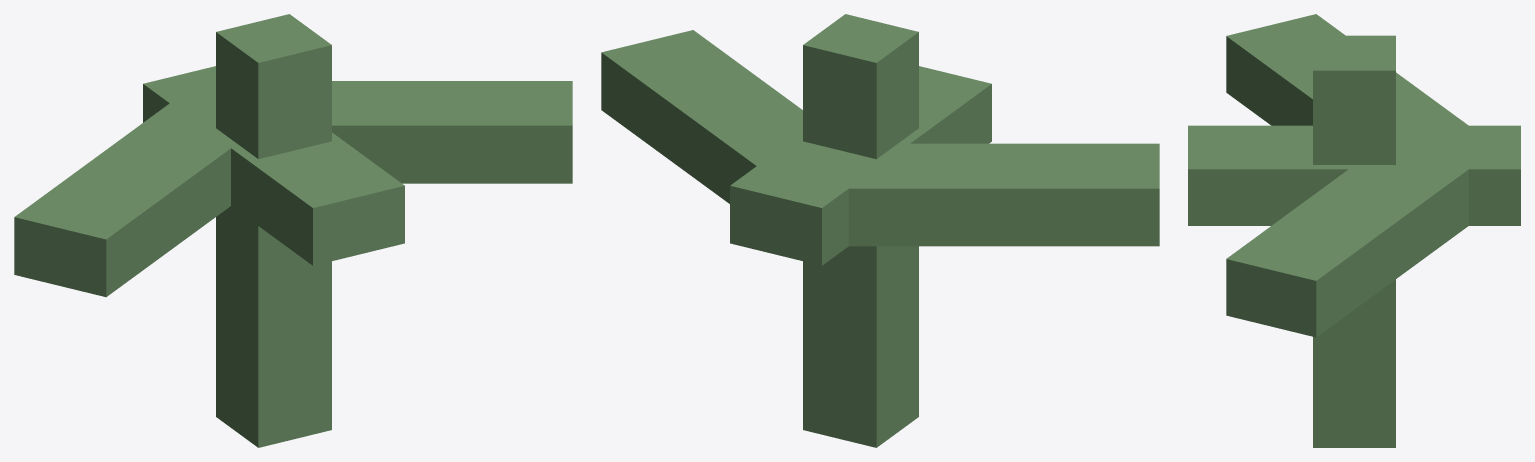
Rendered from hs_sprout.glb.
The picture shows the model from 3 angles, left to right: view 1: azimuth 30°, elevation 25°; view 2: azimuth 150°, elevation 25°; view 3: azimuth 270°, elevation 25°; orthographic projection. The views are drawn at different scales.
Parts seen in each view (by area): view 1: hs_sprout; view 2: hs_sprout; view 3: hs_sprout.
Part boxes in pixels (x1,y1,x2,y2): hs_sprout: [14, 14, 572, 447]; hs_sprout: [601, 14, 1159, 447]; hs_sprout: [1188, 14, 1520, 447].
Bounding box in the file's own units: 0.3036 × 0.2 × 0.16.
